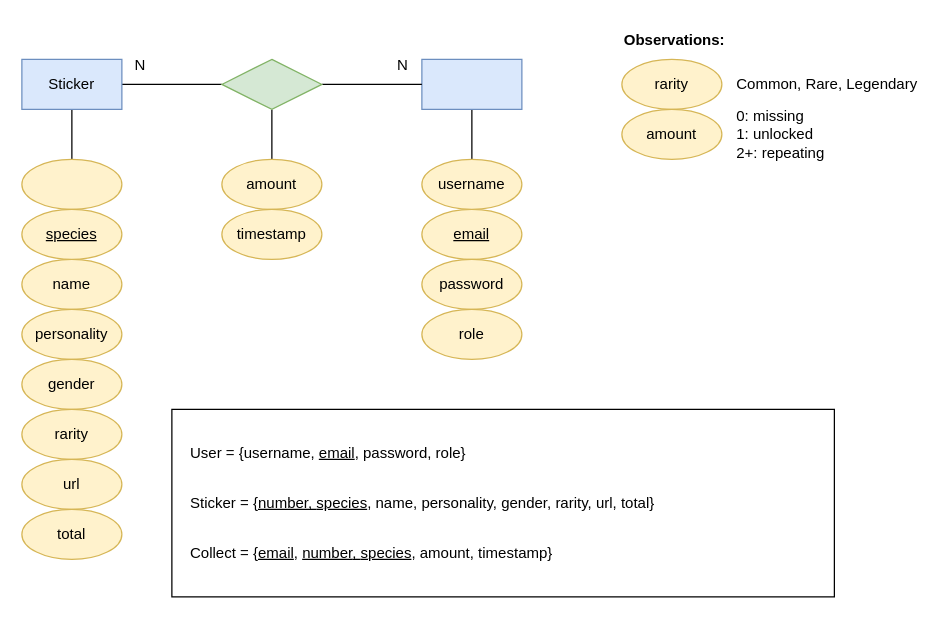
This 944x619 diagram has some shape labels left out. The box of each missing label's shape, as (x1, y1, x2, y2) in pixels:
Collect: (221, 58, 322, 109)
number: (21, 158, 122, 209)
User: (421, 58, 522, 109)
